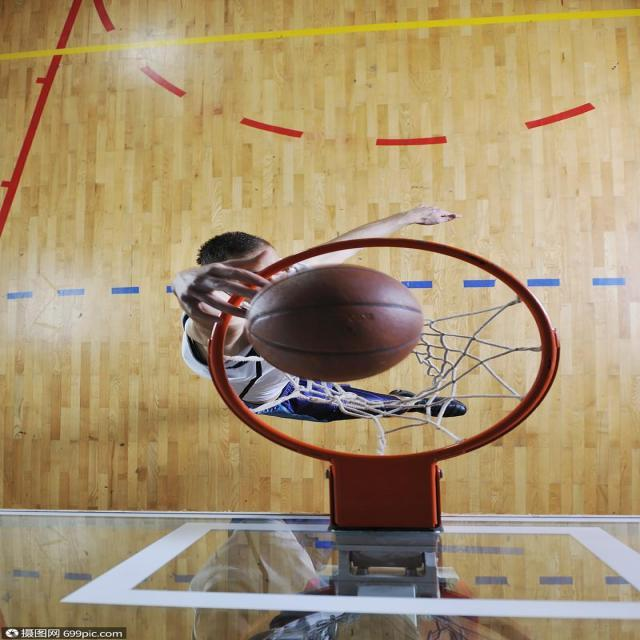rim: (260, 268, 424, 386)
